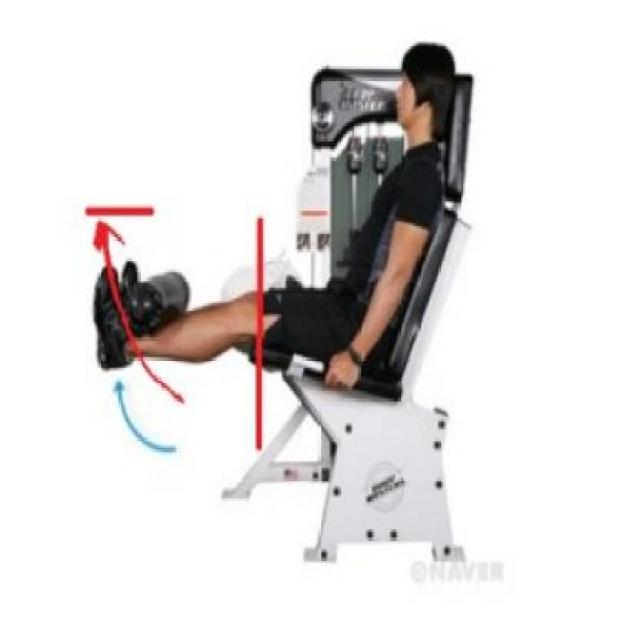leg extension: (70, 31, 502, 589)
